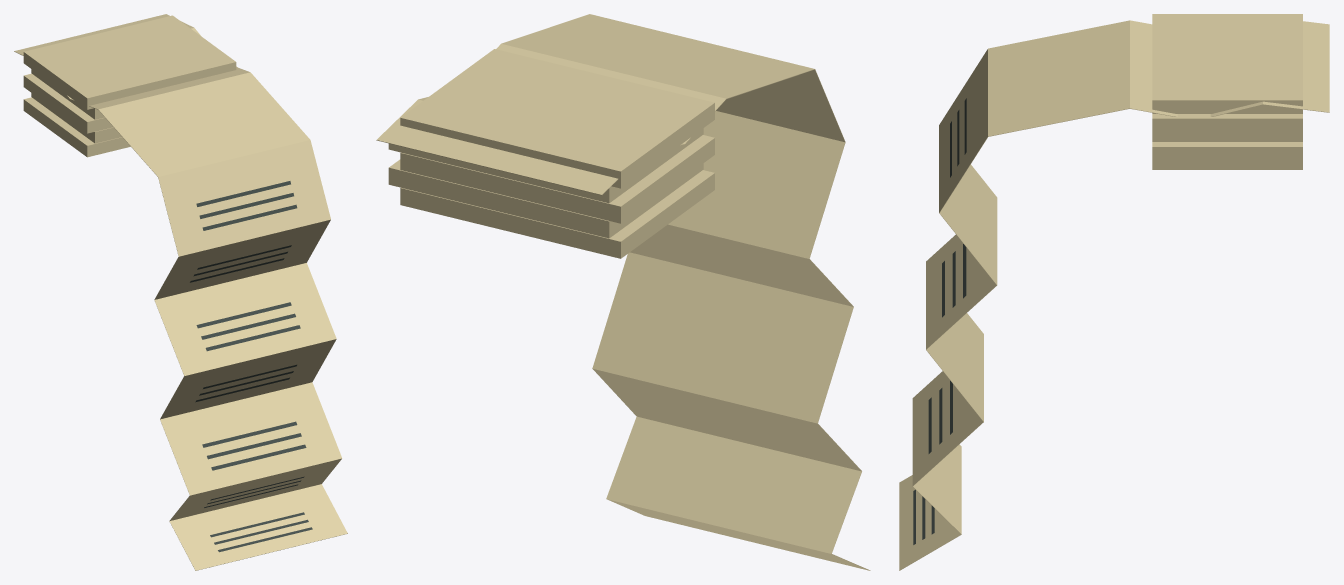
File: cascade-papier-v01.glb
The picture shows the model from 3 angles, left to right: view 1: azimuth 30°, elevation 25°; view 2: azimuth 150°, elevation 25°; view 3: azimuth 270°, elevation 25°; orthographic projection. The views are drawn at different scales.
Visible parts, largest first — view 1: Rappel zéro papier en accordéon, Rame en attente.004, Rame en attente, Rame en attente.002, Rame en attente.001; view 2: Rappel zéro papier en accordéon, Rame en attente.004, Rame en attente.002, Rame en attente, Rame en attente.001, Rame en attente.003; view 3: Rappel zéro papier en accordéon, Rame en attente.004, Rame en attente.001, Rame en attente.003, Rame en attente, Rame en attente.002.
Part boxes in pixels (left/top/right/bottom): Rappel zéro papier en accordéon: left=14, top=14, right=347, bottom=570; Rame en attente.004: left=23, top=15, right=236, bottom=109; Rame en attente: left=23, top=97, right=130, bottom=157; Rame en attente.002: left=23, top=73, right=113, bottom=133; Rame en attente.001: left=31, top=93, right=121, bottom=143; Rappel zéro papier en accordéon: left=376, top=14, right=870, bottom=570; Rame en attente.004: left=400, top=49, right=714, bottom=188; Rame en attente.002: left=400, top=135, right=714, bottom=223; Rame en attente: left=400, top=170, right=714, bottom=258; Rame en attente.001: left=388, top=159, right=703, bottom=238; Rame en attente.003: left=388, top=128, right=703, bottom=203; Rappel zéro papier en accordéon: left=899, top=20, right=1329, bottom=570; Rame en attente.004: left=1152, top=14, right=1302, bottom=113; Rame en attente.001: left=1152, top=142, right=1302, bottom=160; Rame en attente.003: left=1152, top=114, right=1302, bottom=132; Rame en attente: left=1152, top=160, right=1302, bottom=169; Rame en attente.002: left=1152, top=132, right=1302, bottom=141.
Bounding box in the file's own units: 0.484 × 1.16 × 0.9703.
